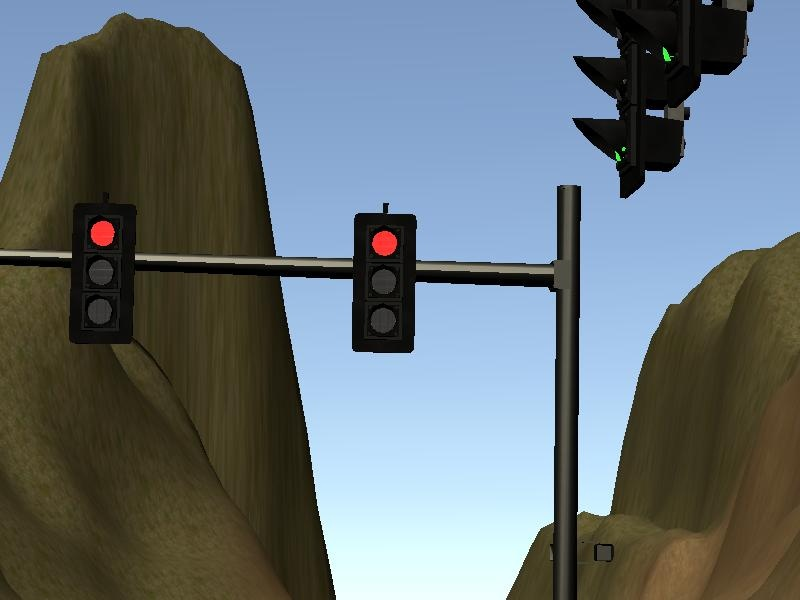red: (70, 205, 137, 345), (350, 214, 416, 354)
